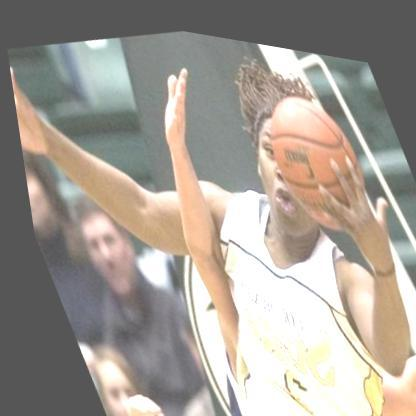basketball: (245, 70, 378, 235)
